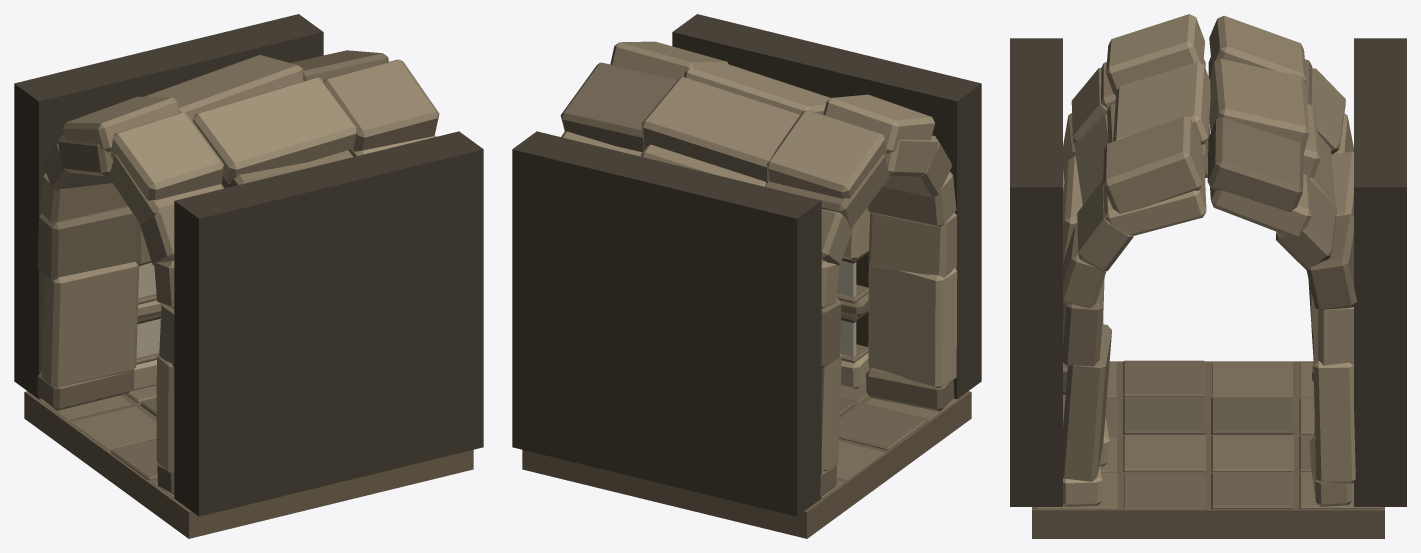
Rendered from cripta-corridoio-2.glb.
3 views of the same model, side by side, from view 1: azimuth 30°, elevation 25°; view 2: azimuth 150°, elevation 25°; view 3: azimuth 270°, elevation 25° (orthographic). The views are drawn at different scales.
Parts seen in each view (by area): view 1: cripta-corridoio-22; view 2: cripta-corridoio-22; view 3: cripta-corridoio-22.
Part boxes in pixels (<box>): cripta-corridoio-22: <box>14,14,483,538</box>; cripta-corridoio-22: <box>512,14,981,538</box>; cripta-corridoio-22: <box>1010,14,1406,538</box>.
Size of the model in its own units: 4.11 by 4.83 by 4.5.
